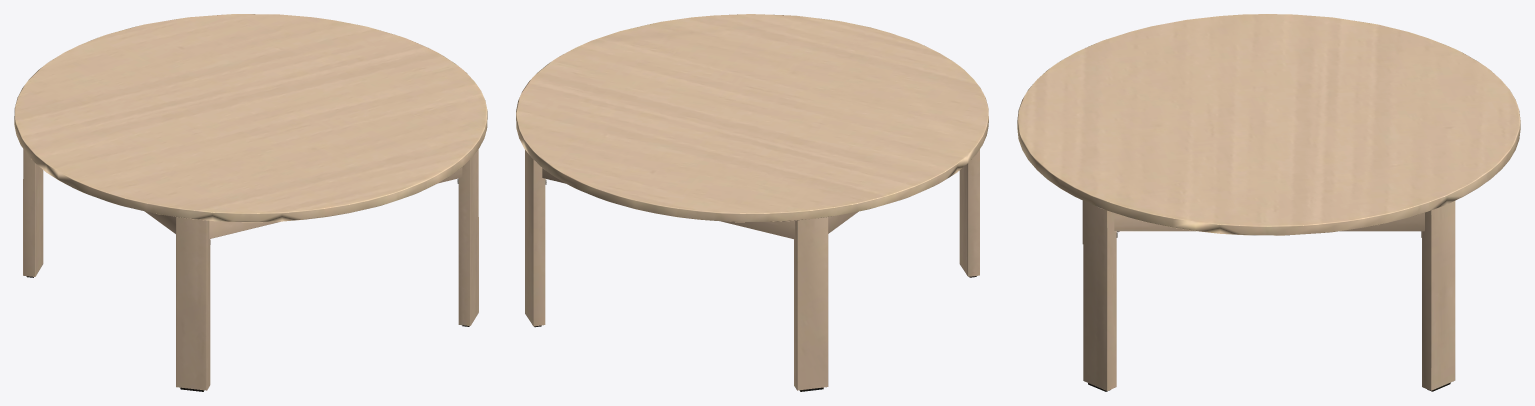
The model's file is 03 - MOXBODA - 咖啡桌，折疊式竹，70 公分 IKEA 線上購物.glb.
3 renders of one model, left to right at view 1: azimuth 30°, elevation 25°; view 2: azimuth 150°, elevation 25°; view 3: azimuth 270°, elevation 25°, orthographic. The views are drawn at different scales.
Visible parts, largest first — view 1: Mesh_0; view 2: Mesh_0; view 3: Mesh_0.
Boxes of the visible parts, x1,y1,x2,y2 form: Mesh_0: (14, 14, 487, 391); Mesh_0: (516, 14, 988, 391); Mesh_0: (1017, 14, 1520, 391).
Size of the model in its own units: 0.6999 by 0.2998 by 0.7.
Materials: 1 (1 with a texture image).
